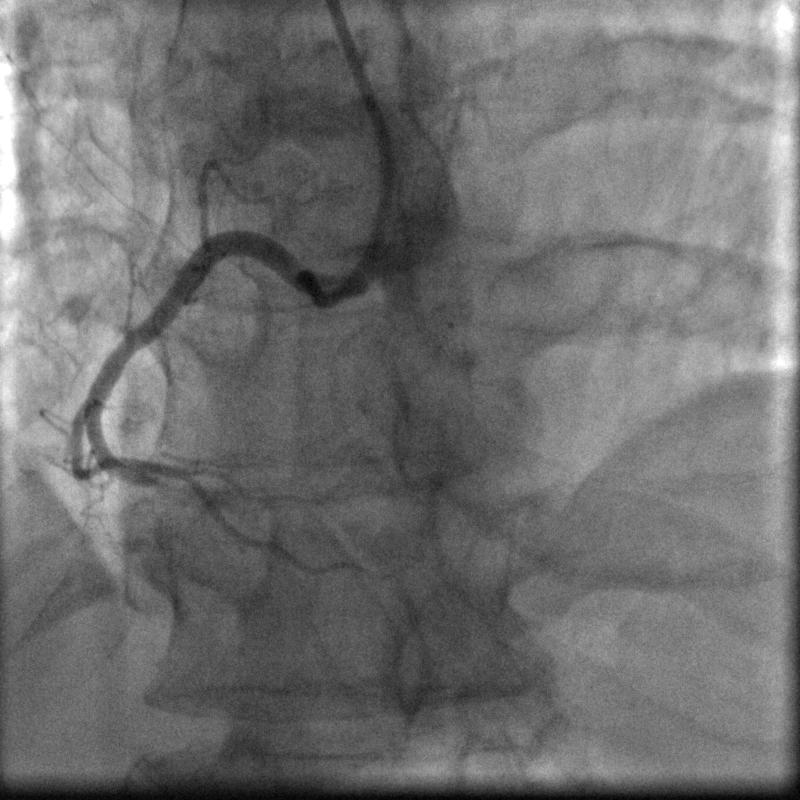Stenosis: (133, 460, 184, 495)
